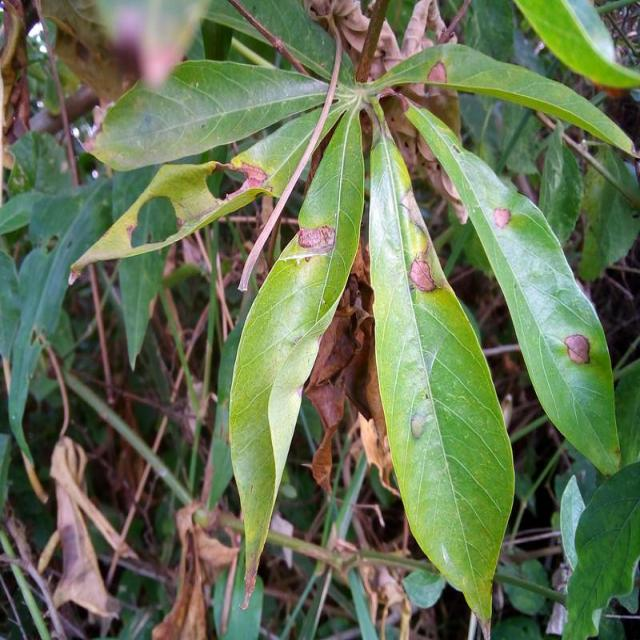cassava leaf: (66, 0, 636, 629), (396, 92, 622, 477), (366, 100, 516, 627), (226, 101, 365, 610)
